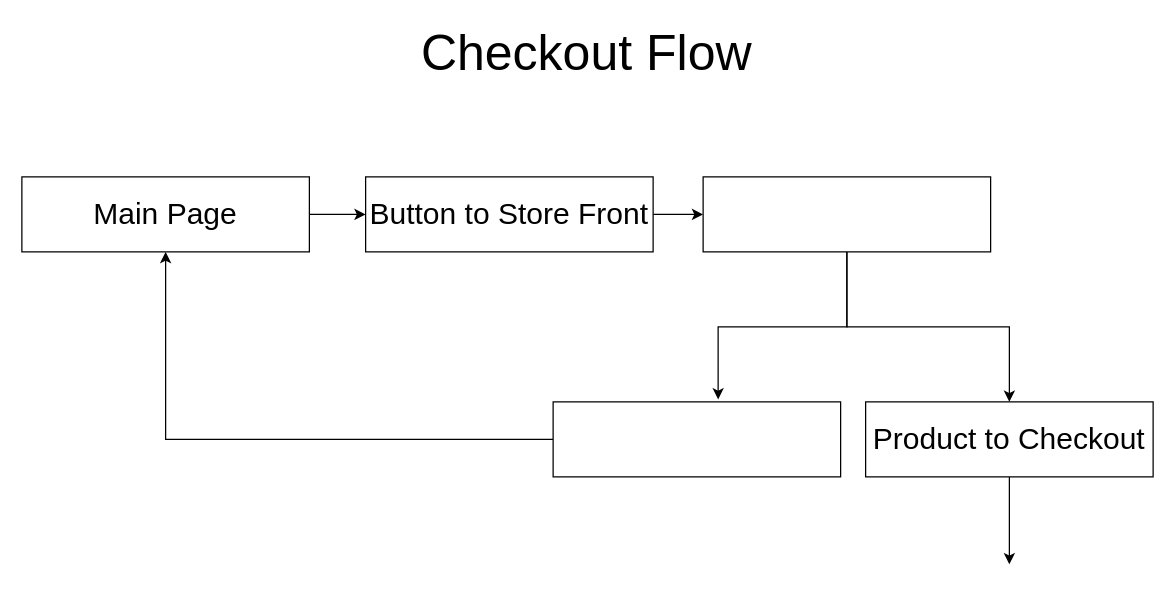
This 1175x596 diagram has some shape labels left out. Each missing label, with the centre of its shape:
Cancel Button: [696,439]
Store Front Page: [846,214]
